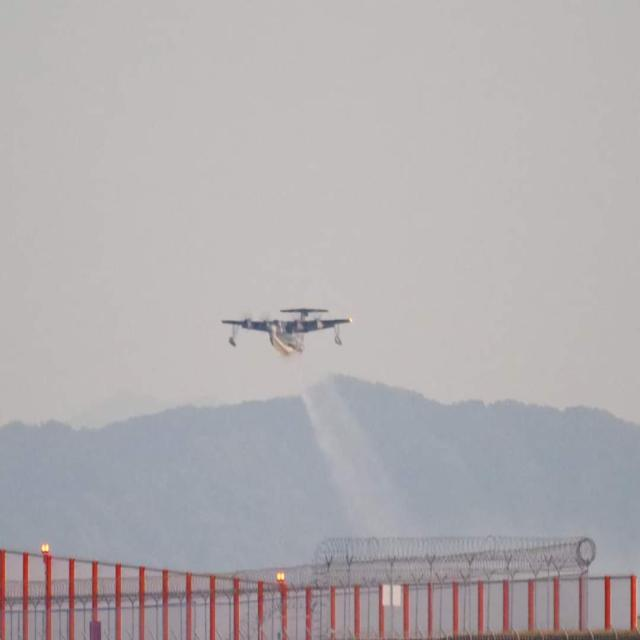MIL_Plane: (221, 307, 353, 357)
